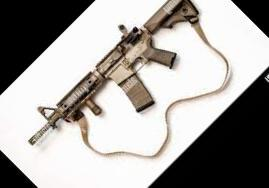larga: (28, 0, 199, 146)
